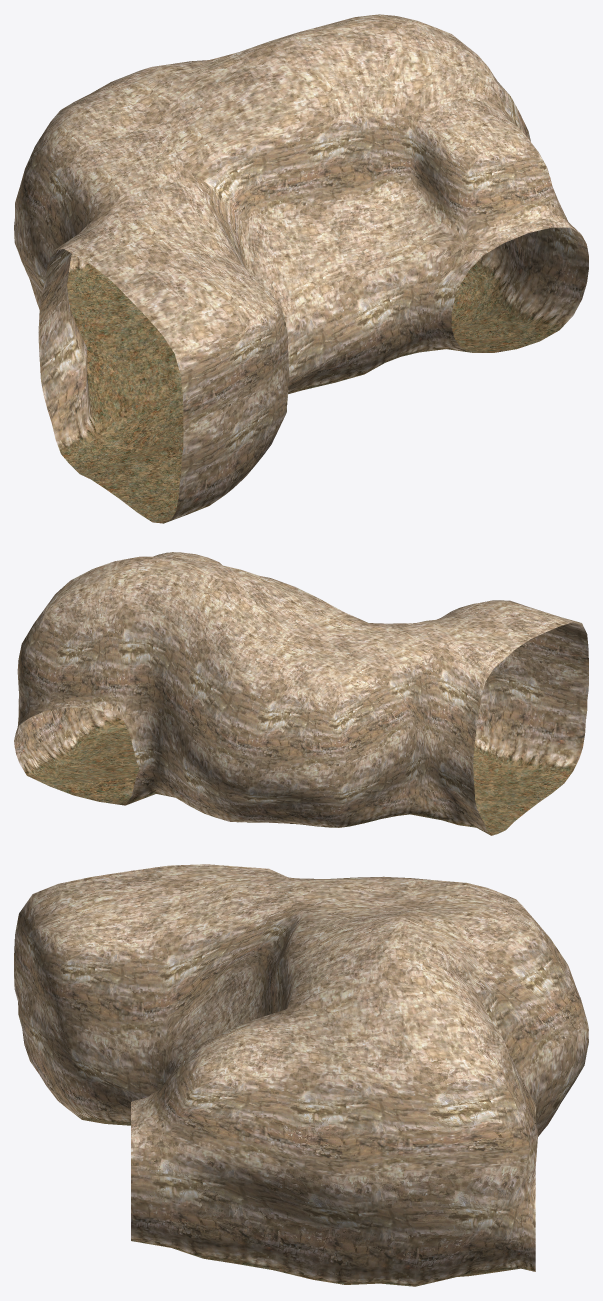
The model's file is thm_all_cave_s01_mirror_r3_mesh_r3.fbx.
3 renders of one model, top to bottom at view 1: azimuth 30°, elevation 25°; view 2: azimuth 150°, elevation 25°; view 3: azimuth 270°, elevation 25°, orthographic. The views are drawn at different scales.
Visible parts, largest first — view 1: mesh_node; view 2: mesh_node; view 3: mesh_node.
Boxes of the visible parts, left/top/right/bottom form: mesh_node: left=14, top=14, right=588, bottom=523; mesh_node: left=14, top=552, right=588, bottom=835; mesh_node: left=14, top=864, right=588, bottom=1286.
Bounding box in the file's own units: 51.47 × 30.23 × 47.83.
